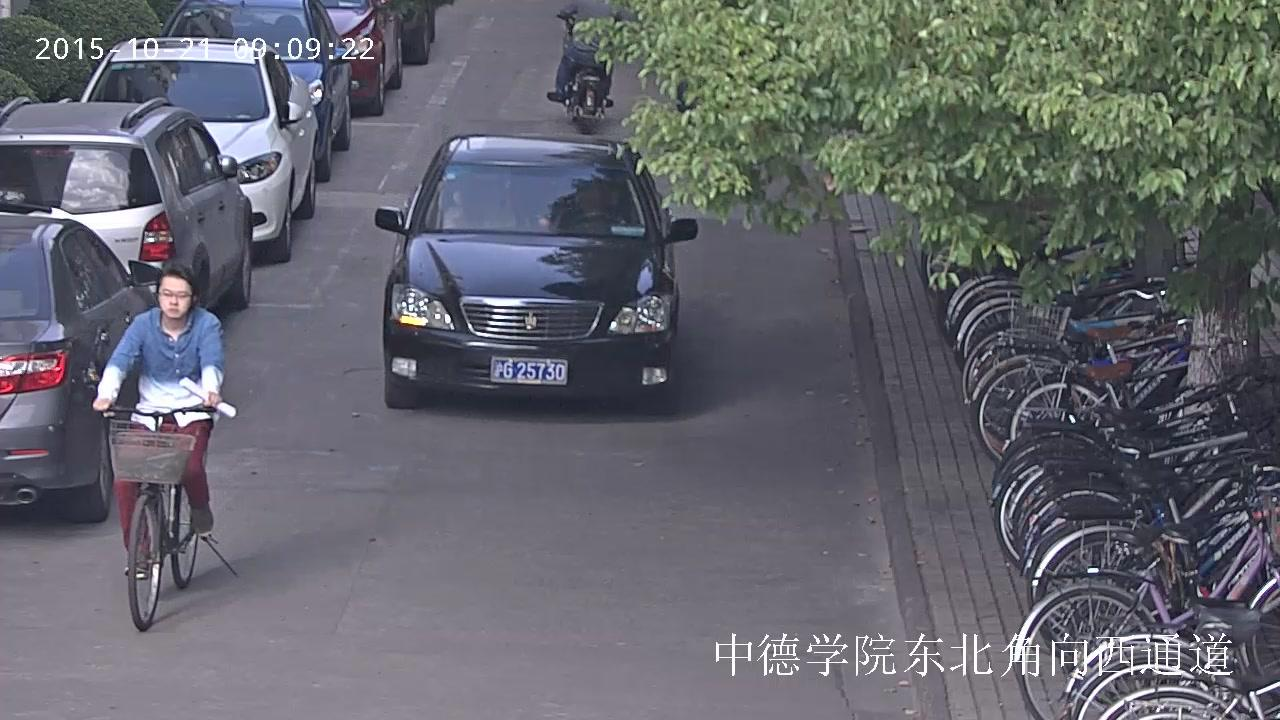person: (93, 262, 235, 631), (92, 262, 234, 578), (546, 0, 634, 134), (546, 0, 634, 107)
